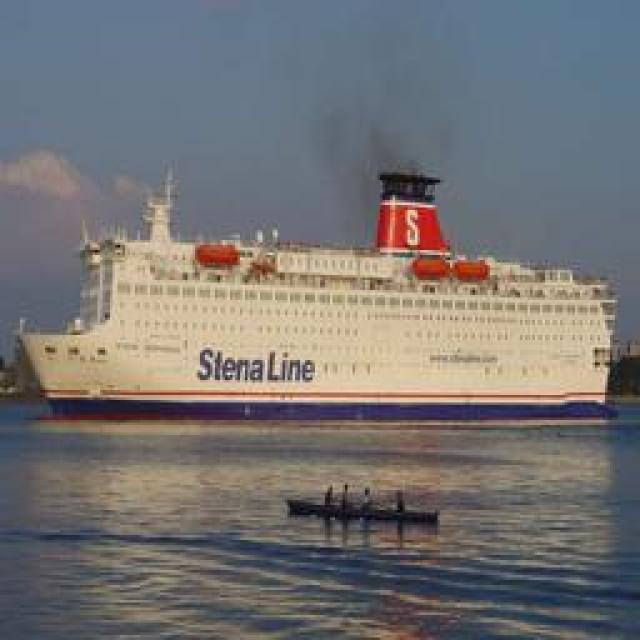ship2: (21, 174, 619, 425), (288, 482, 439, 527)
